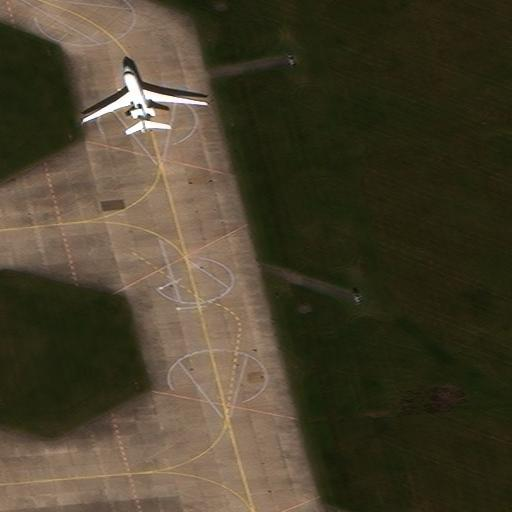Medium Civil Transport: (82, 64, 206, 133)
